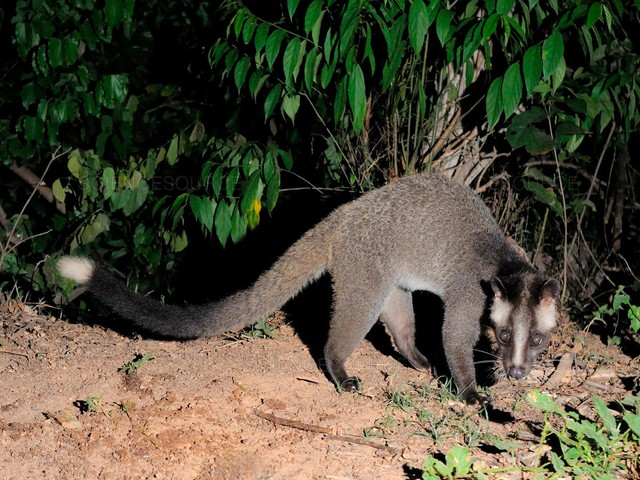civet: (54, 171, 567, 412)
